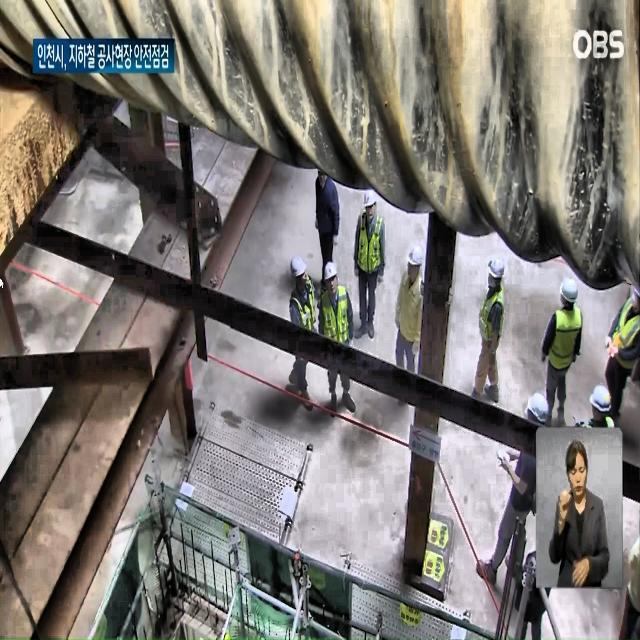safety_helmet: (524, 390, 551, 421), (587, 384, 614, 414), (488, 251, 504, 281), (322, 259, 342, 280), (561, 282, 579, 302), (292, 254, 308, 276), (362, 189, 378, 211), (406, 251, 422, 270)
safety_jacket: (545, 307, 584, 375), (608, 302, 640, 382), (321, 284, 352, 354), (356, 213, 388, 280), (289, 283, 315, 346), (482, 290, 504, 350)
